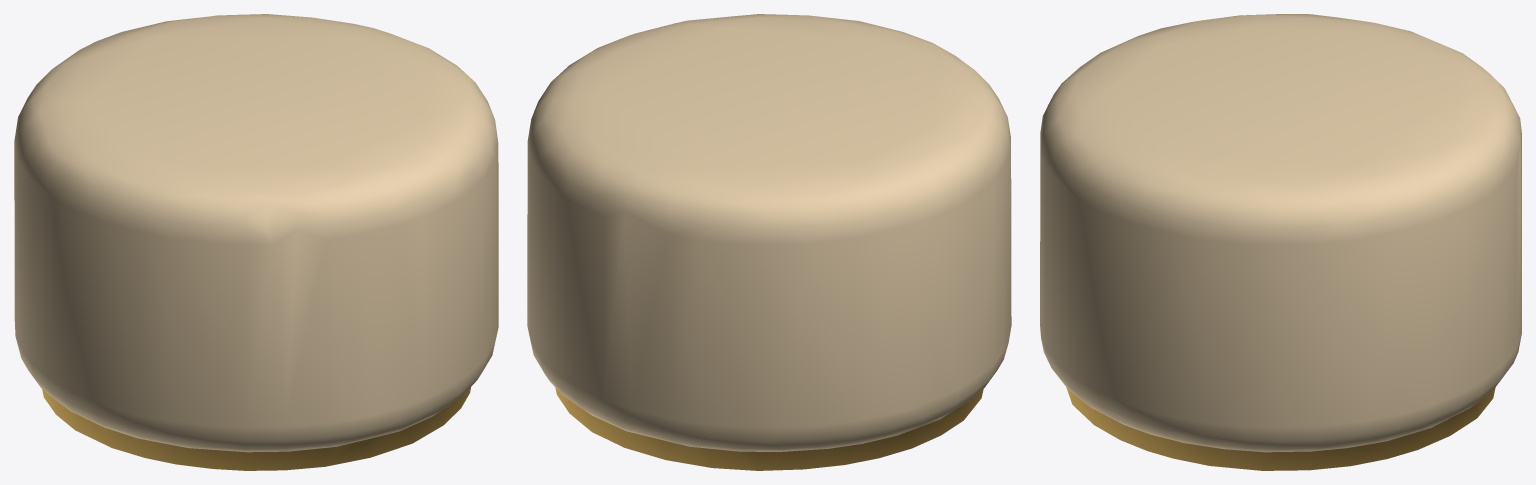
File: GJH_NEW_ottoman_round.glb
3 views of the same model, side by side, from view 1: azimuth 30°, elevation 25°; view 2: azimuth 150°, elevation 25°; view 3: azimuth 270°, elevation 25° (orthographic).
Visible parts, largest first — view 1: GJH_NEW_ottoman_round; view 2: GJH_NEW_ottoman_round; view 3: GJH_NEW_ottoman_round.
Boxes of the visible parts, x1=… form: GJH_NEW_ottoman_round: x1=14, y1=14, x2=498, y2=470; GJH_NEW_ottoman_round: x1=527, y1=14, x2=1011, y2=470; GJH_NEW_ottoman_round: x1=1040, y1=14, x2=1521, y2=470.
Size of the model in its own units: 0.7 by 0.45 by 0.7.
